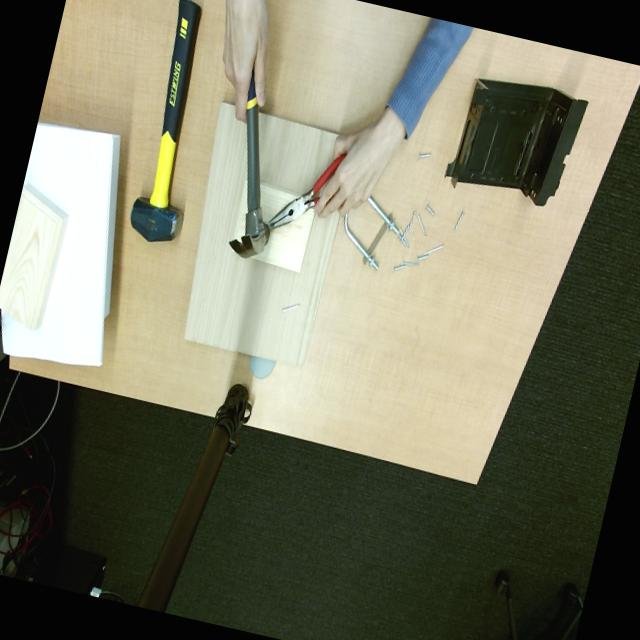hammer: (130, 0, 201, 242), (229, 72, 270, 258)
pliers: (268, 152, 345, 230)
